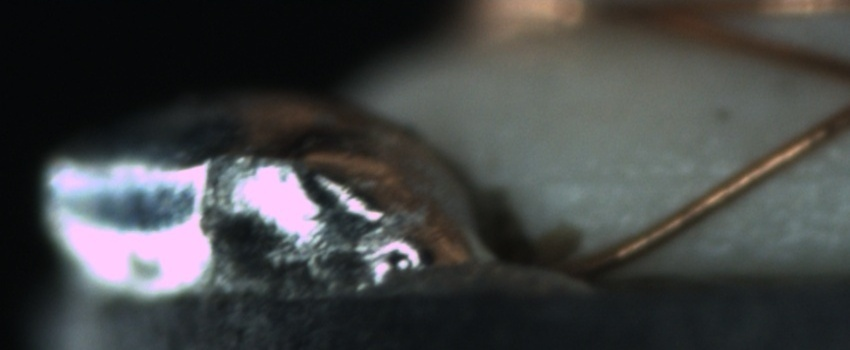DL: (537, 146, 850, 209)
